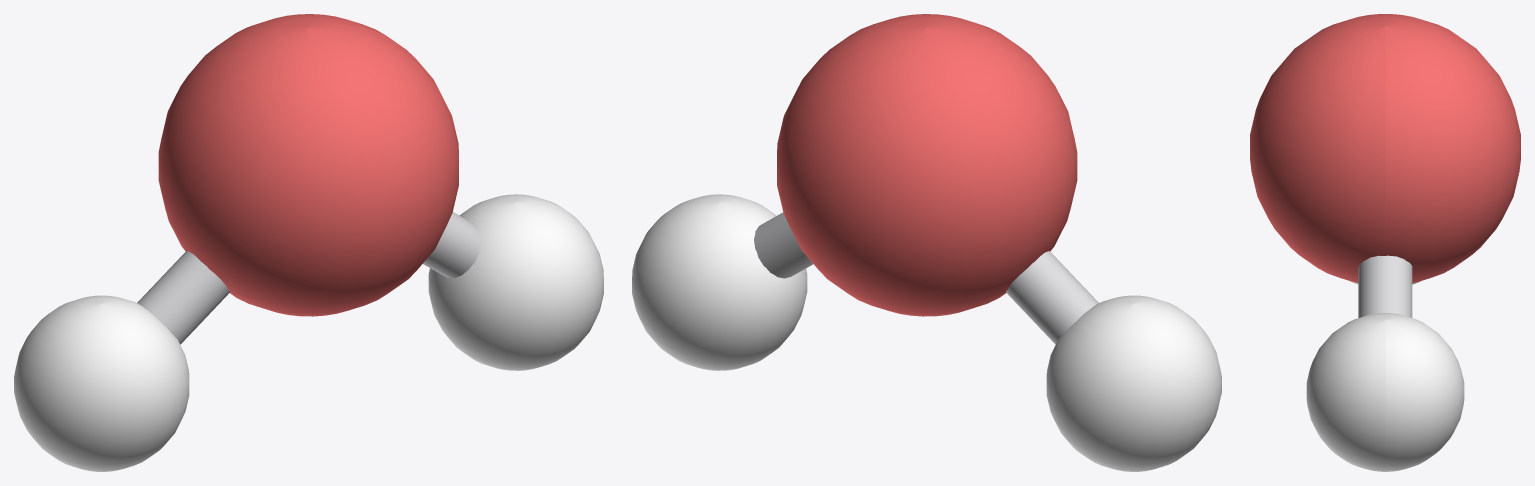
File: water.glb
3 views of the same model, side by side, from view 1: azimuth 30°, elevation 25°; view 2: azimuth 150°, elevation 25°; view 3: azimuth 270°, elevation 25° (orthographic). The views are drawn at different scales.
Bounding box in the file's own units: 0.2592 × 0.1685 × 0.1192.
